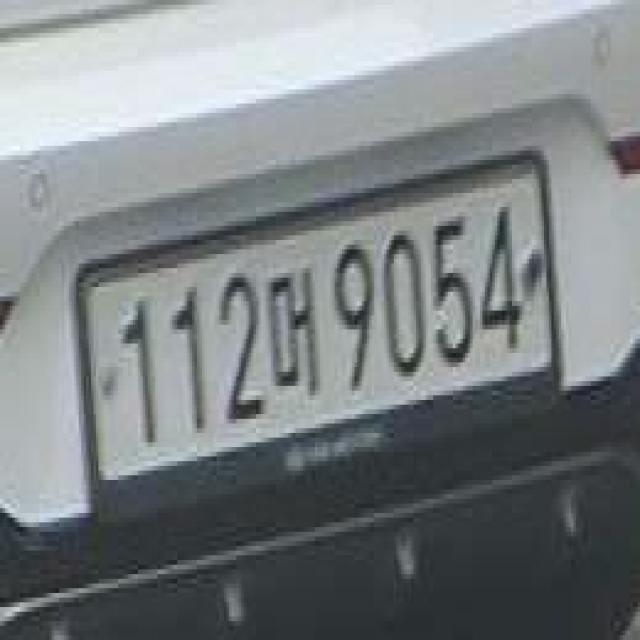illegal_plate: (78, 158, 561, 510)
